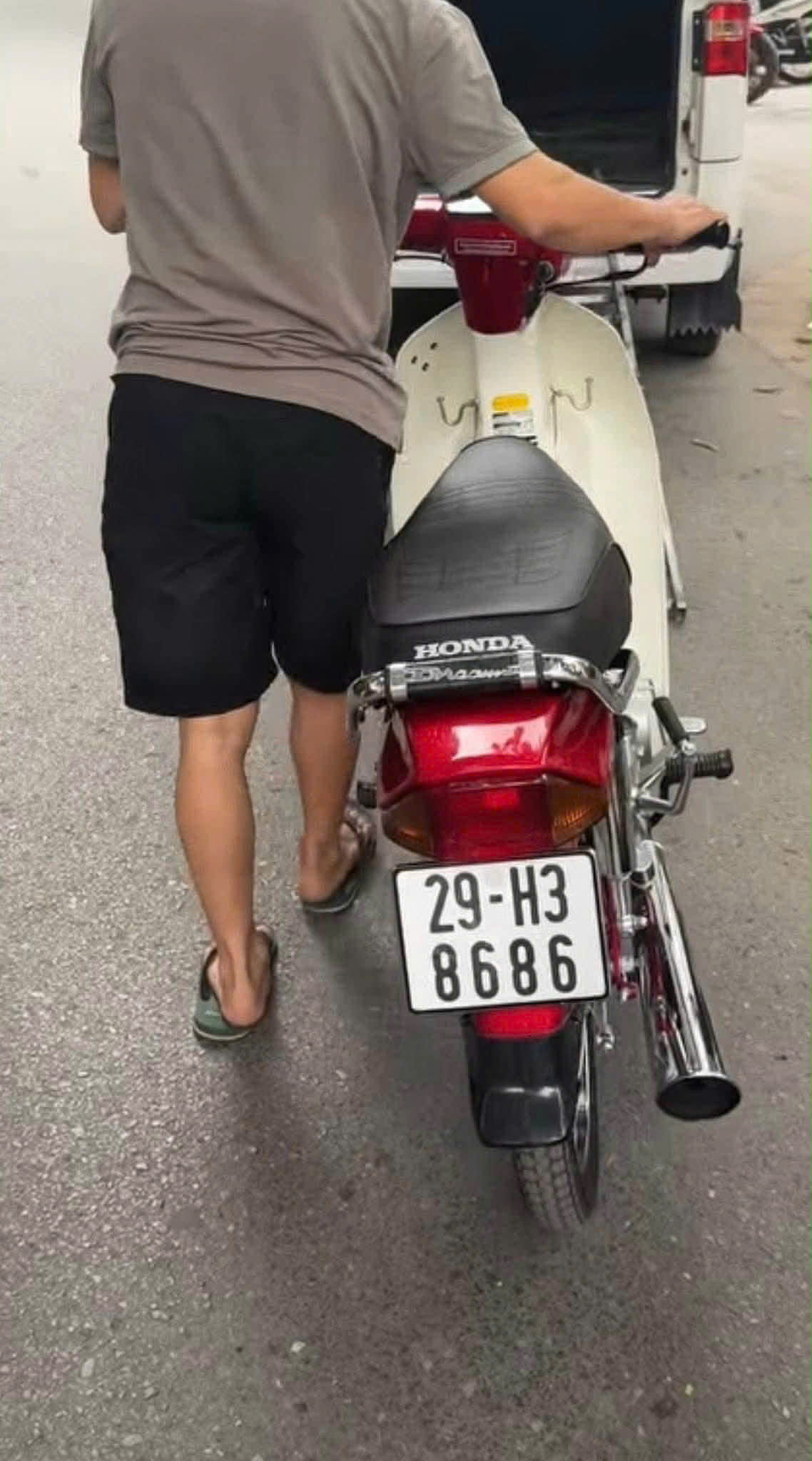Bien-so: (395, 852, 599, 1012)
